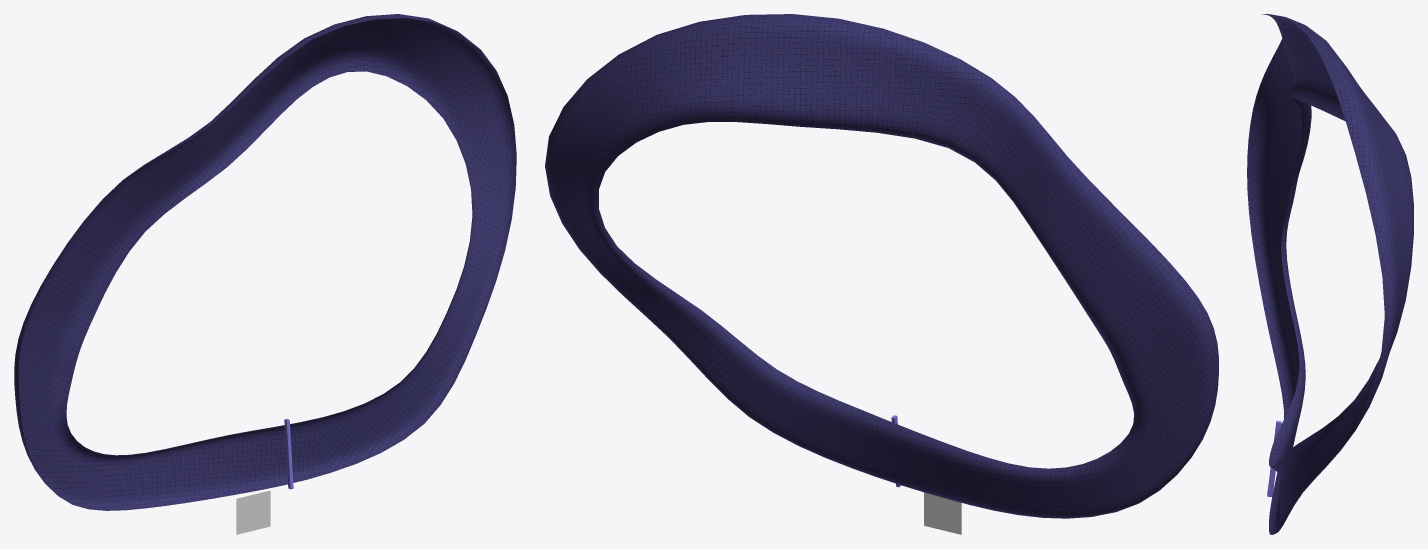
Rendered from hilltrack.gltf.
3 views of the same model, side by side, from view 1: azimuth 30°, elevation 25°; view 2: azimuth 150°, elevation 25°; view 3: azimuth 270°, elevation 25° (orthographic). The views are drawn at different scales.
Parts seen in each view (by area): view 1: track, Plane; view 2: track, Plane; view 3: track, track.002.
Part boxes in pixels (x1,y1,x2,y2): track: (14,14,516,510); Plane: (236,490,270,534); track: (545,14,1218,518); Plane: (924,492,961,534); track: (1247,14,1413,534); track.002: (1267,421,1281,496).
Bounding box in the file's own units: 1401 × 1110 × 324.
3 materials, 1 textured.
